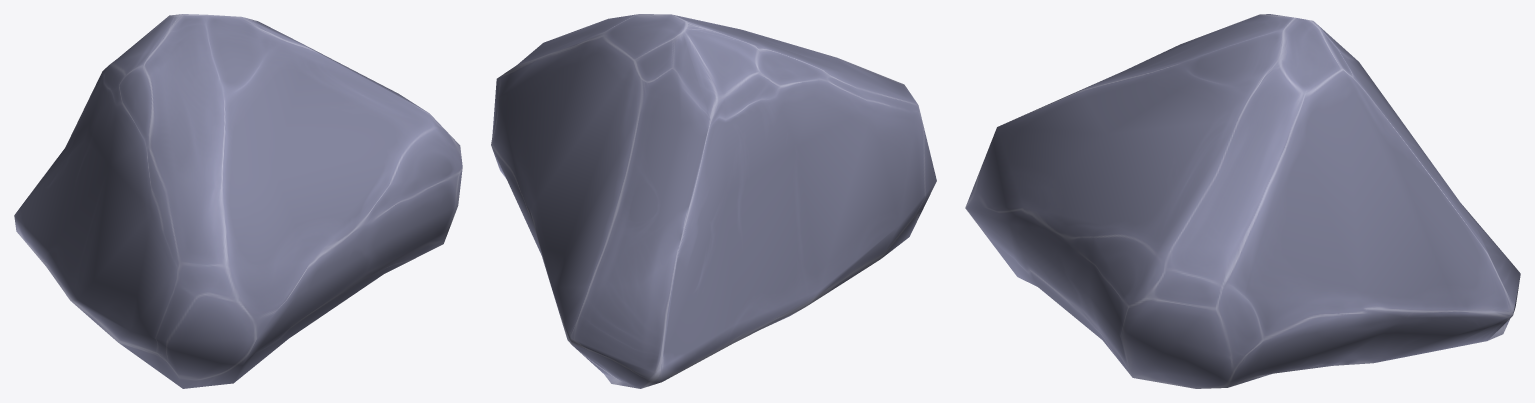
Rendered from Stone_3_Variation_1.fbx.
3 views of the same model, side by side, from view 1: azimuth 30°, elevation 25°; view 2: azimuth 150°, elevation 25°; view 3: azimuth 270°, elevation 25° (orthographic). The views are drawn at different scales.
Parts seen in each view (by area): view 1: Stone_3_Variation_1; view 2: Stone_3_Variation_1; view 3: Stone_3_Variation_1.
Part boxes in pixels (box(x1,y1,x2,y2)): Stone_3_Variation_1: box(14, 14, 462, 388); Stone_3_Variation_1: box(491, 14, 936, 388); Stone_3_Variation_1: box(965, 14, 1520, 388).
Size of the model in its own units: 121 by 94.6 by 146.
